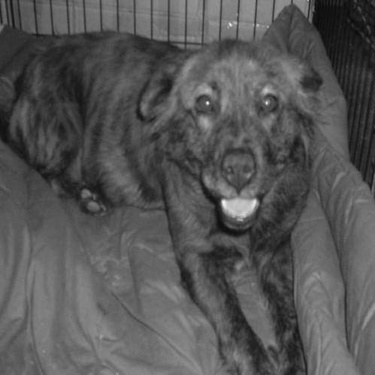dog: (5, 6, 322, 370)
